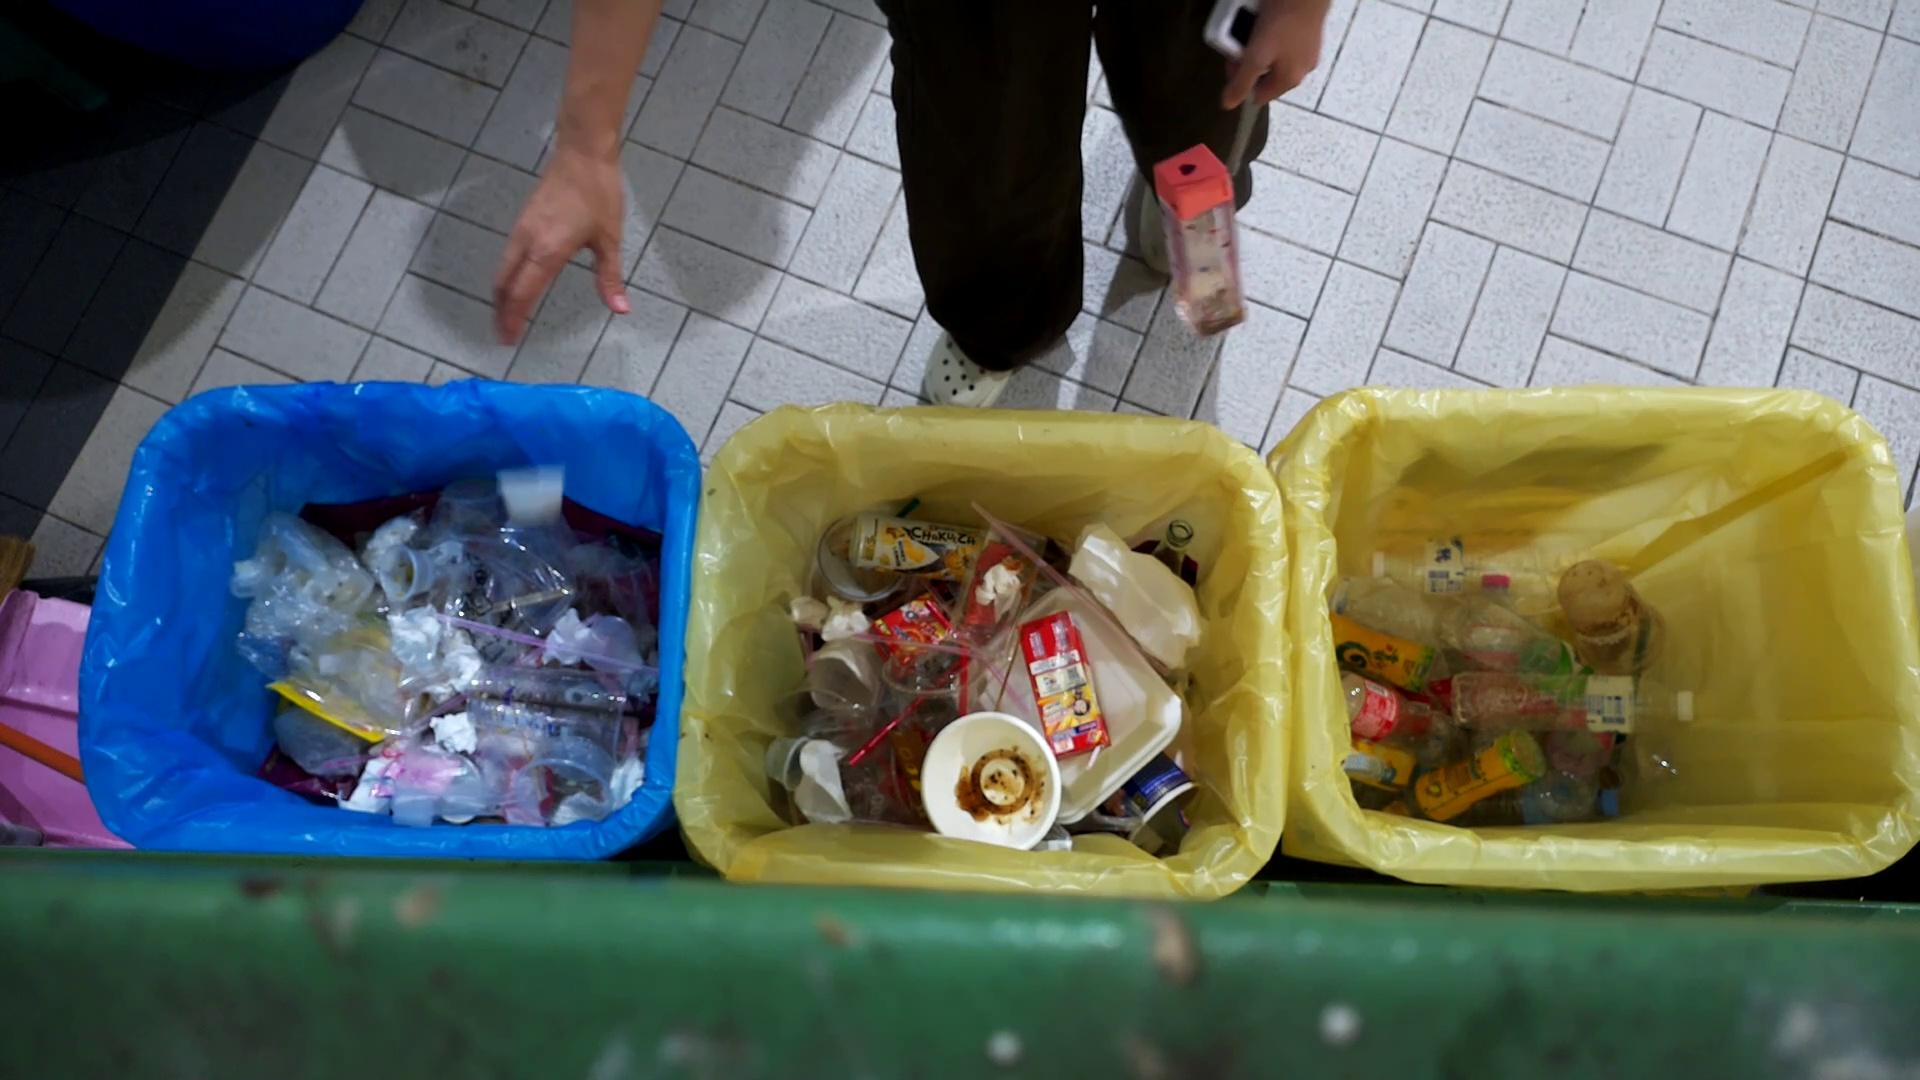can: (845, 509, 975, 583)
filled plastic bag: (425, 473, 580, 616), (940, 516, 1042, 658)
food container: (951, 580, 1195, 823), (918, 709, 1063, 853), (509, 732, 625, 825), (491, 462, 571, 529), (373, 541, 438, 604), (579, 615, 642, 675), (761, 731, 814, 796)
milk carton: (1013, 608, 1117, 762), (865, 584, 971, 676)
plastic bag: (229, 584, 419, 732), (1072, 522, 1215, 678), (223, 505, 372, 644), (375, 716, 542, 831)
plastic bottle: (1449, 666, 1698, 741), (1379, 704, 1548, 815), (1337, 666, 1486, 766), (1369, 531, 1593, 597), (1441, 593, 1584, 670), (1328, 607, 1456, 688)
plastic cup: (463, 655, 645, 765), (1552, 556, 1669, 671), (880, 637, 986, 744)
straw: (969, 500, 1166, 673), (443, 589, 663, 692), (852, 632, 1029, 709), (848, 658, 961, 765), (479, 688, 657, 721), (1084, 746, 1101, 773)
tissue paper: (795, 736, 856, 825), (380, 600, 454, 669), (796, 595, 880, 650), (537, 607, 592, 665), (433, 620, 481, 679), (426, 709, 479, 758)
